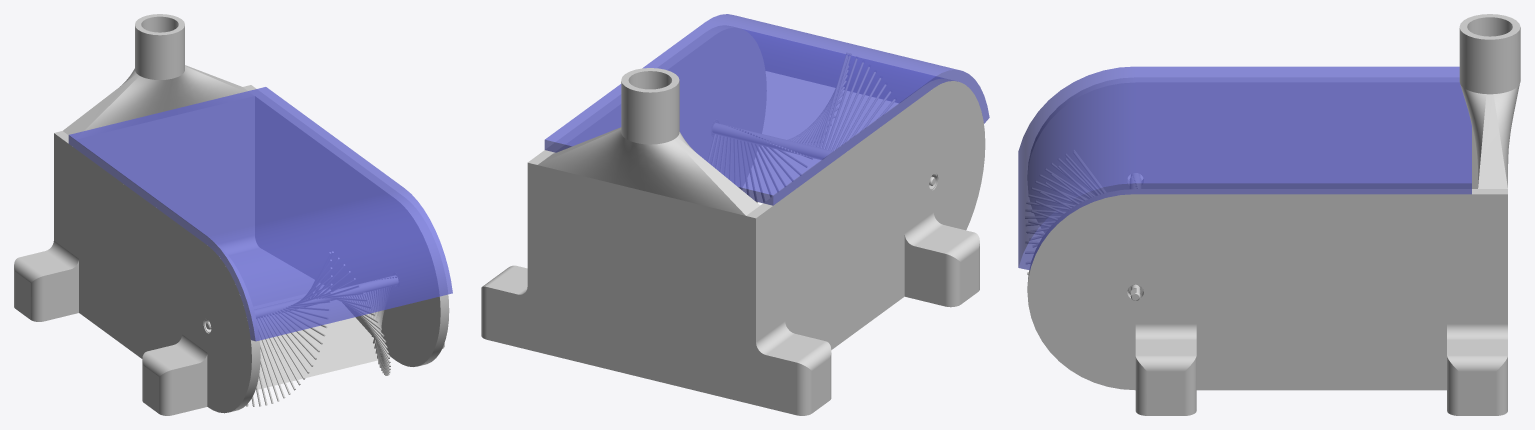
Rendered from vacuum-v5.glb.
The picture shows the model from 3 angles, left to right: view 1: azimuth 30°, elevation 25°; view 2: azimuth 150°, elevation 25°; view 3: azimuth 270°, elevation 25°; orthographic projection. The views are drawn at different scales.
Parts seen in each view (by area): view 1: Top Cover-1, Panel L-1, Sweeep-1, Panel R-1, VAC V5 Assem, Rot. Brush-1; view 2: Sweeep-1, Panel L-1, Top Cover-1, Panel R-1, VAC V5 Assem, Rot. Brush-1; view 3: Panel R-1, Top Cover-1, Panel L-1, Sweeep-1, VAC V5 Assem.
Part boxes in pixels (left/top/right/bottom): Top Cover-1: left=68, top=87, right=452, bottom=341; Panel L-1: left=14, top=131, right=260, bottom=415; Sweeep-1: left=63, top=14, right=390, bottom=390; Panel R-1: left=243, top=85, right=449, bottom=366; VAC V5 Assem: left=246, top=252, right=332, bottom=406; Rot. Brush-1: left=206, top=275, right=398, bottom=329; Sweeep-1: left=537, top=68, right=759, bottom=402; Panel L-1: left=746, top=79, right=985, bottom=415; Top Cover-1: left=544, top=14, right=989, bottom=205; Panel R-1: left=481, top=25, right=766, bottom=351; VAC V5 Assem: left=822, top=53, right=895, bottom=150; Rot. Brush-1: left=712, top=123, right=935, bottom=185; Panel R-1: left=1027, top=189, right=1507, bottom=415; Top Cover-1: left=1018, top=66, right=1471, bottom=270; Panel L-1: left=1027, top=77, right=1477, bottom=232; Sweeep-1: left=1459, top=14, right=1520, bottom=188; VAC V5 Assem: left=1025, top=150, right=1105, bottom=247.
Size of the model in its own units: 0.3316 by 0.2848 by 0.4179.
